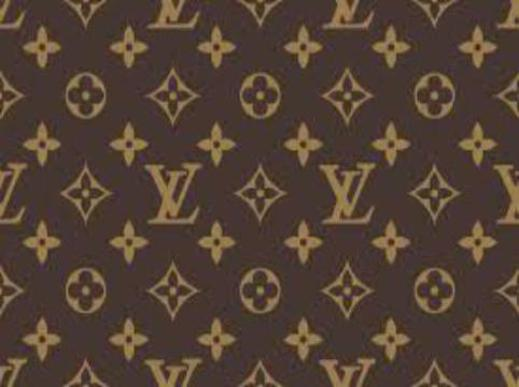LOUIS-VUITTON: (137, 149, 213, 240), (320, 154, 386, 235)
